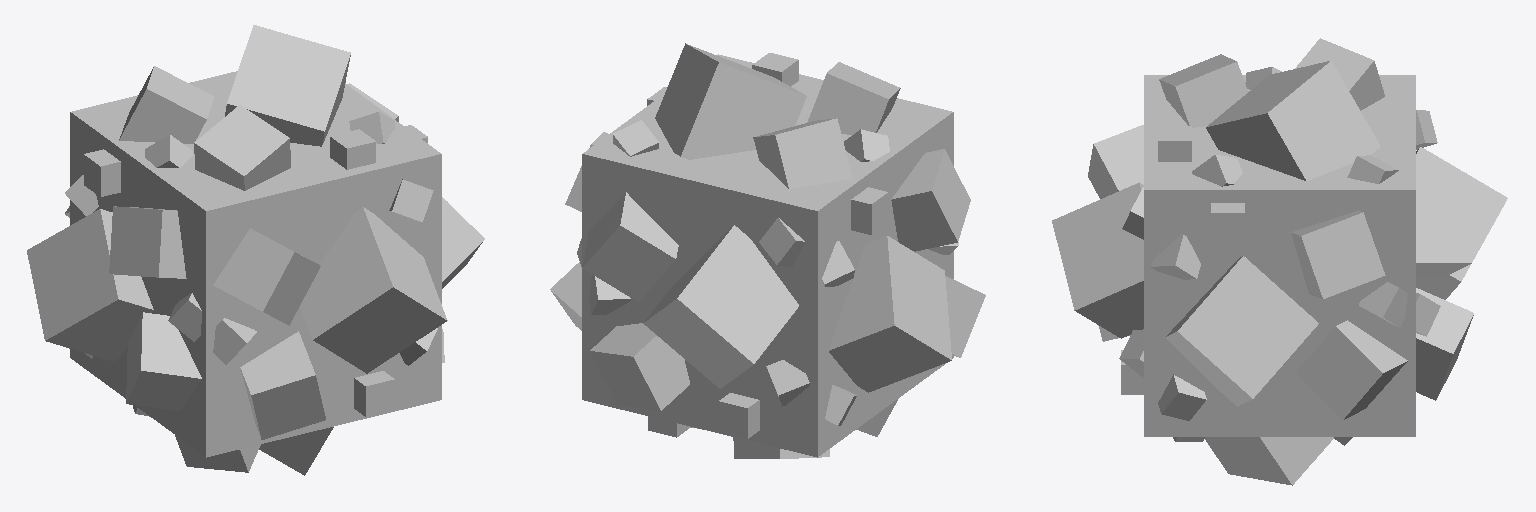
File: ores_ore_block.obj
3 views of the same model, side by side, from view 1: azimuth 30°, elevation 25°; view 2: azimuth 150°, elevation 25°; view 3: azimuth 270°, elevation 25° (orthographic).
Parts seen in each view (by area): view 1: Ore; view 2: Ore; view 3: Ore.
Part boxes in pixels (left/top/right/bottom): Ore: left=27, top=25, right=484, bottom=475; Ore: left=550, top=43, right=985, bottom=458; Ore: left=1052, top=38, right=1507, bottom=485.
Bounding box in the file's own units: 1.68 × 1.68 × 1.68.